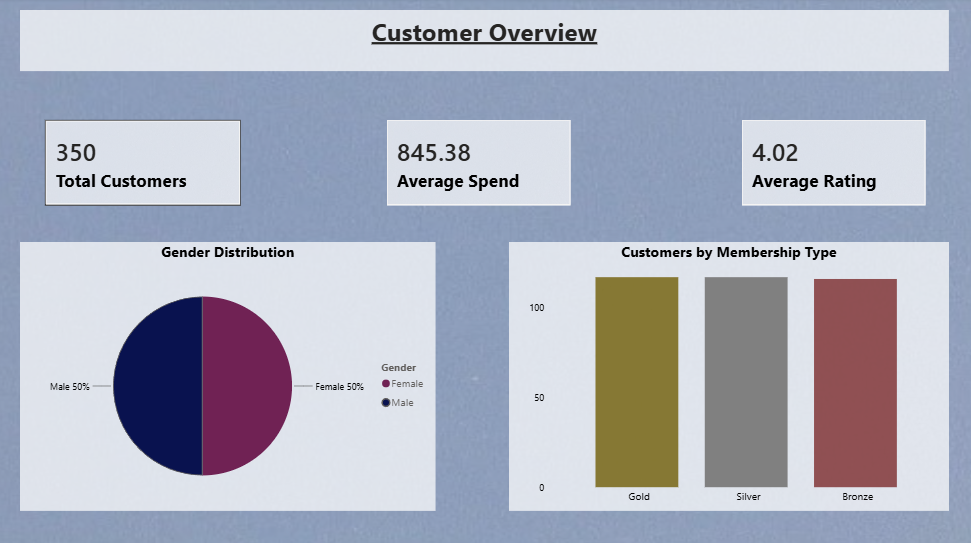

This screenshot's page, from the dashboard's own definition file:
{"tool":"powerbi","page":{"name":"Page 1","canvas":[1280,720],"ordinal":0},"visuals":[{"type":"cardVisual","fields":{"Data":["CountNonNull(clustered_customers.Customer ID)"]},"box":[64,160,256,112],"z":0},{"type":"cardVisual","fields":{"Data":["Avg(clustered_customers.Total Spend)"]},"box":[512,160,240,112],"z":1000},{"type":"cardVisual","fields":{"Data":["Avg(clustered_customers.Average Rating)"]},"box":[976,160,240,112],"z":2000},{"type":"columnChart","title":"Customers by Membership Type","fields":{"Category":["clustered_customers.Membership Type"],"Y":["CountNonNull(clustered_customers.Customer ID)"]},"box":[672,320,576,352],"z":3000},{"type":"pieChart","title":"Gender Distribution","fields":{"Category":["clustered_customers.Gender"],"Y":["CountNonNull(clustered_customers.Customer ID)"]},"box":[32,320,544,352],"z":3001},{"type":"textbox","box":[32,16,1216,80],"z":3002}]}

Visuals, with their boxes in screenshot pixels (x1, y1, x2, y2), scaled from the page's 1280x720 canvas onto the 971x543 screenshot:
cardVisual - CountNonNull(clustered_customers.Customer ID): box(49, 121, 243, 205)
cardVisual - Avg(clustered_customers.Total Spend): box(388, 121, 570, 205)
cardVisual - Avg(clustered_customers.Average Rating): box(740, 121, 922, 205)
"Customers by Membership Type" columnChart: box(510, 241, 947, 507)
"Gender Distribution" pieChart: box(24, 241, 437, 507)
textbox: box(24, 12, 947, 72)
